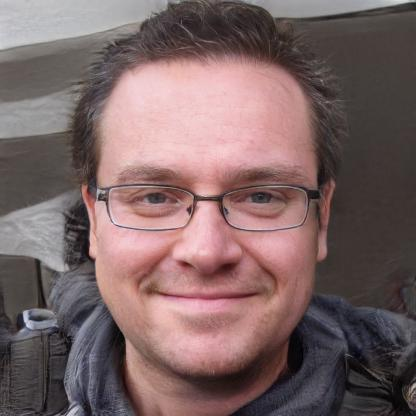glasses: (92, 179, 321, 234)
